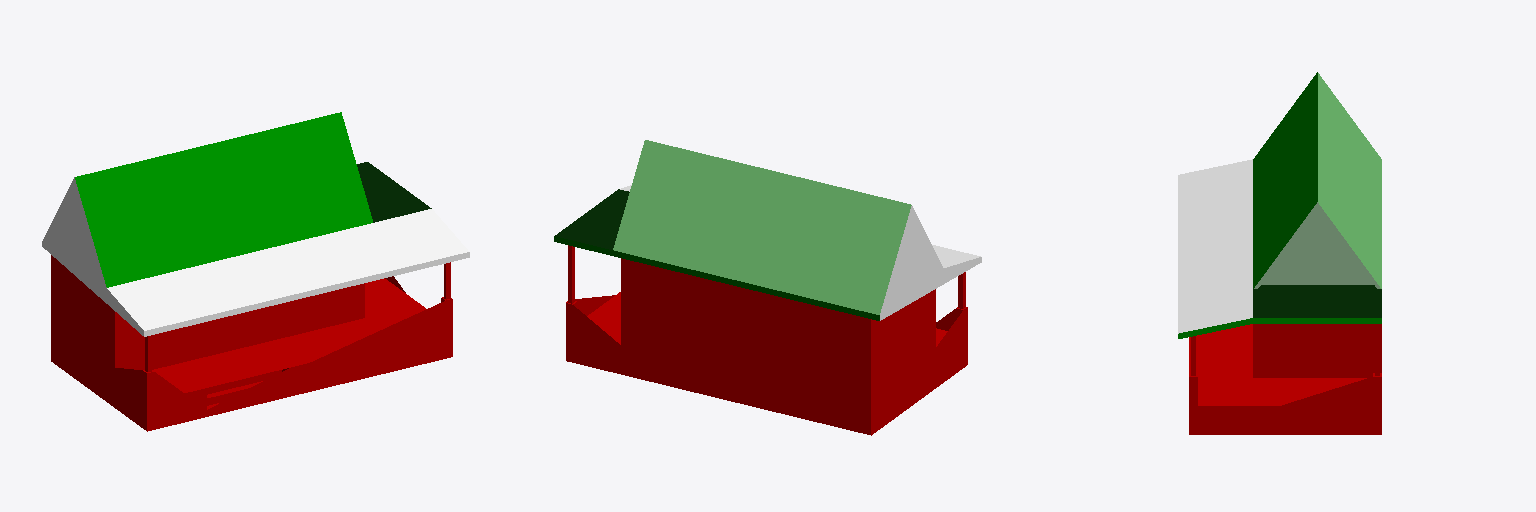
File: villa#2.obj
3 views of the same model, side by side, from view 1: azimuth 30°, elevation 25°; view 2: azimuth 150°, elevation 25°; view 3: azimuth 270°, elevation 25° (orthographic).
Parts seen in each view (by area): view 1: Mesh1 Model; view 2: Mesh1 Model; view 3: Mesh1 Model.
Part boxes in pixels (left/top/right/bottom): Mesh1 Model: left=42, top=112, right=469, bottom=431; Mesh1 Model: left=554, top=140, right=981, bottom=435; Mesh1 Model: left=1178, top=72, right=1381, bottom=434.
Bounding box in the file's own units: 11.7 × 7.2 × 6.34.